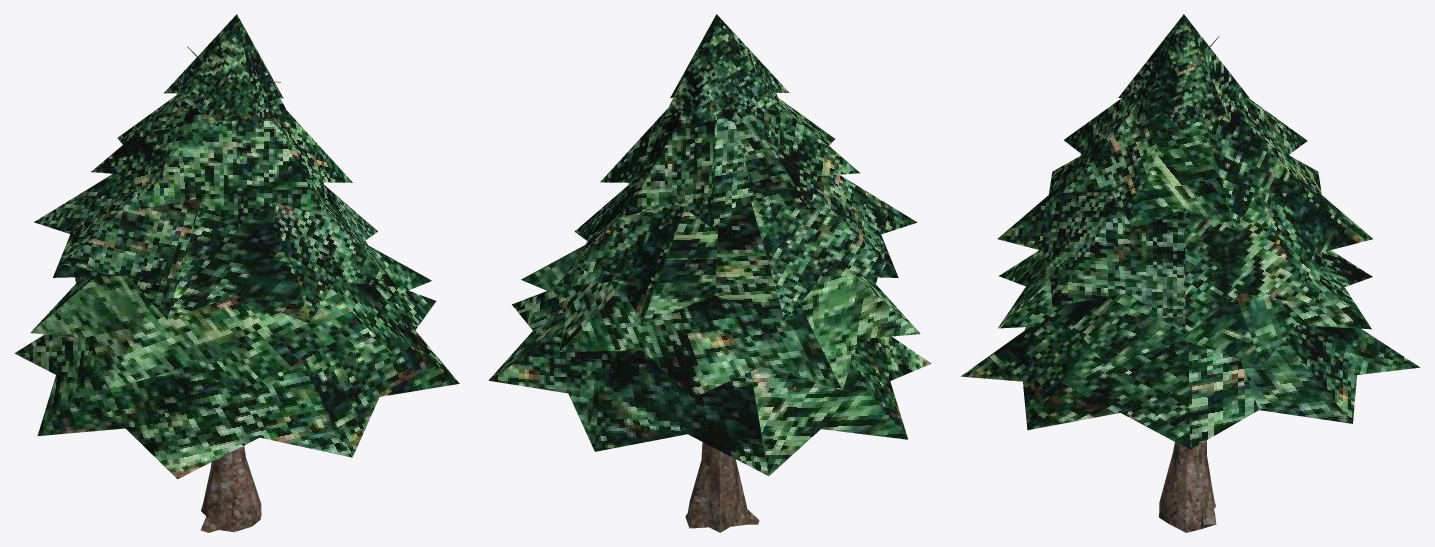
Rendered from alpine_tree_2.gltf.
3 renders of one model, left to right at view 1: azimuth 30°, elevation 25°; view 2: azimuth 150°, elevation 25°; view 3: azimuth 270°, elevation 25°, orthographic.
Parts seen in each view (by area): view 1: PineLeaves.005, PineLeaves.003, PineLeaves.004, PineLeaves.001, PineLeaves, Trunk-col; view 2: PineLeaves.005, PineLeaves.003, PineLeaves.004, PineLeaves.001, PineLeaves, Trunk-col; view 3: PineLeaves.003, PineLeaves.005, PineLeaves.001, PineLeaves.004, PineLeaves, Trunk-col.
Part boxes in pixels (x1=…): PineLeaves.005: x1=14, y1=290, x2=459, y2=479; PineLeaves.003: x1=34, y1=173, x2=396, y2=323; PineLeaves.004: x1=30, y1=241, x2=431, y2=398; PineLeaves.001: x1=91, y1=96, x2=352, y2=227; PineLeaves: x1=164, y1=14, x2=290, y2=129; Trunk-col: x1=200, y1=446, x2=261, y2=532; PineLeaves.005: x1=489, y1=291, x2=930, y2=476; PineLeaves.003: x1=556, y1=174, x2=917, y2=323; PineLeaves.004: x1=521, y1=241, x2=920, y2=397; PineLeaves.001: x1=600, y1=98, x2=860, y2=227; PineLeaves: x1=663, y1=14, x2=789, y2=128; Trunk-col: x1=685, y1=442, x2=759, y2=532; PineLeaves.003: x1=997, y1=156, x2=1372, y2=334; PineLeaves.005: x1=960, y1=324, x2=1419, y2=449; PineLeaves.001: x1=1063, y1=98, x2=1307, y2=229; PineLeaves.004: x1=998, y1=250, x2=1372, y2=365; PineLeaves: x1=1118, y1=14, x2=1249, y2=131; Trunk-col: x1=1159, y1=440, x2=1216, y2=532.
Size of the model in its own units: 9.62 by 11.72 by 9.66.
Materials: 2 (2 with a texture image).
